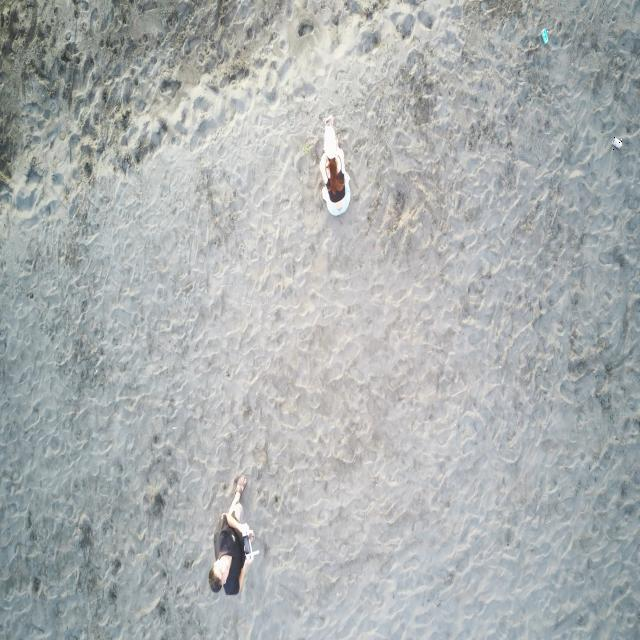tin-and-aluminum-cans: (541, 27, 549, 45), (612, 137, 622, 150)
